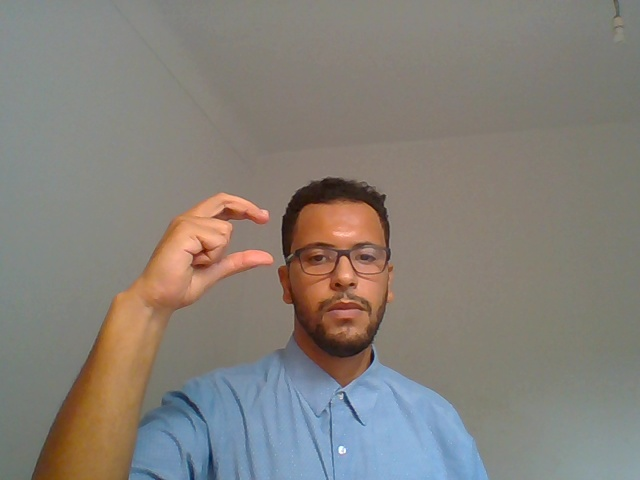no: (88, 160, 273, 455)
